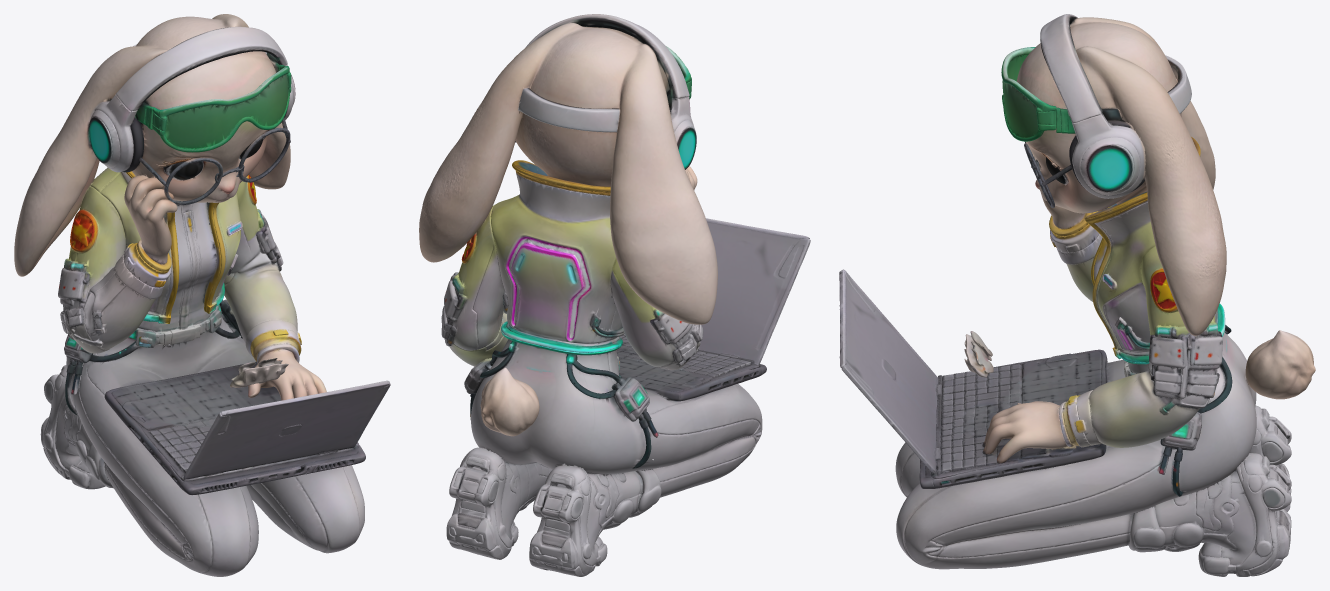
The model's file is 亚文化兔.glb.
3 renders of one model, left to right at view 1: azimuth 30°, elevation 25°; view 2: azimuth 150°, elevation 25°; view 3: azimuth 270°, elevation 25°, orthographic. The views are drawn at different scales.
Parts seen in each view (by area): view 1: tripo_node_d3fd8e77-4004-455b-acbd-cc7ec3b050b0; view 2: tripo_node_d3fd8e77-4004-455b-acbd-cc7ec3b050b0; view 3: tripo_node_d3fd8e77-4004-455b-acbd-cc7ec3b050b0.
Part boxes in pixels (x1=…): tripo_node_d3fd8e77-4004-455b-acbd-cc7ec3b050b0: x1=14, y1=14, x2=390, y2=576; tripo_node_d3fd8e77-4004-455b-acbd-cc7ec3b050b0: x1=419, y1=14, x2=810, y2=576; tripo_node_d3fd8e77-4004-455b-acbd-cc7ec3b050b0: x1=839, y1=14, x2=1315, y2=576.
Size of the model in its own units: 0.5886 by 0.9809 by 0.8098.
1 material, 1 textured.
